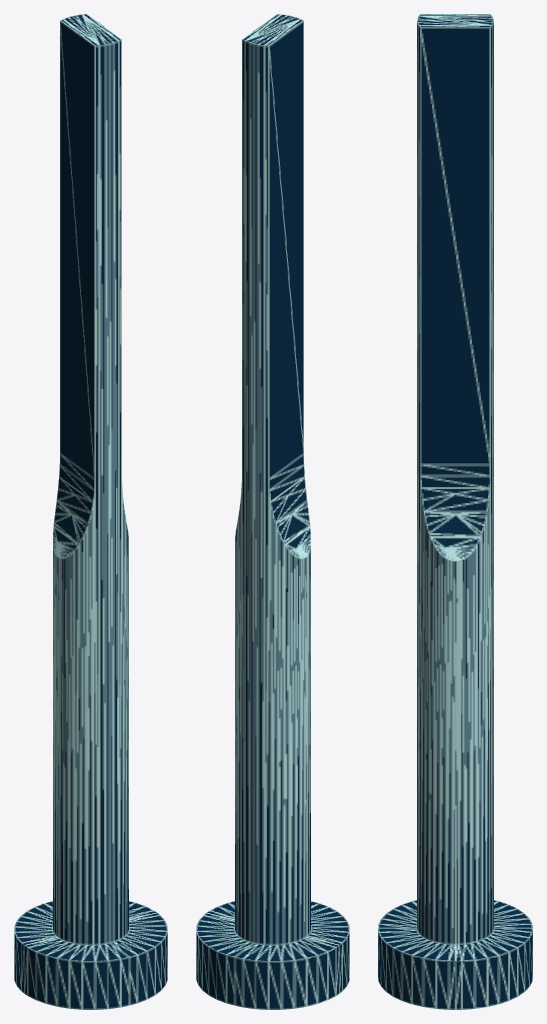
Rendered from Extra-Ejector2-M.glb.
The picture shows the model from 3 angles, left to right: view 1: azimuth 30°, elevation 25°; view 2: azimuth 150°, elevation 25°; view 3: azimuth 270°, elevation 25°; orthographic projection.
Parts seen in each view (by area): view 1: ejector2.002, ejector2.001; view 2: ejector2.002, ejector2.001; view 3: ejector2.001, ejector2.002.
Part boxes in pixels (x1,y1,x2,y2): ejector2.002: (14,16,129,1009); ejector2.001: (72,14,167,1005); ejector2.002: (234,16,349,1009); ejector2.001: (196,14,291,1005); ejector2.001: (378,20,532,1009); ejector2.002: (378,14,532,928).
Bounding box in the file's own units: 0.4282 × 2.91 × 0.427.
Materials: 1 (1 with a texture image).
